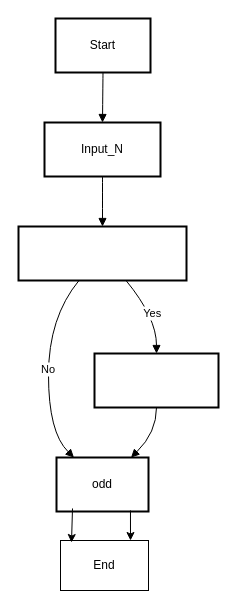
The diagram is 236 pixels wide and 608 high, and some of its shapes have lost their labels. The centre of each missing label's shape, as x and y in pixels:
"Even" belongs at point 156,380.
"Is_N_mod_2_0?" belongs at point 102,253.
